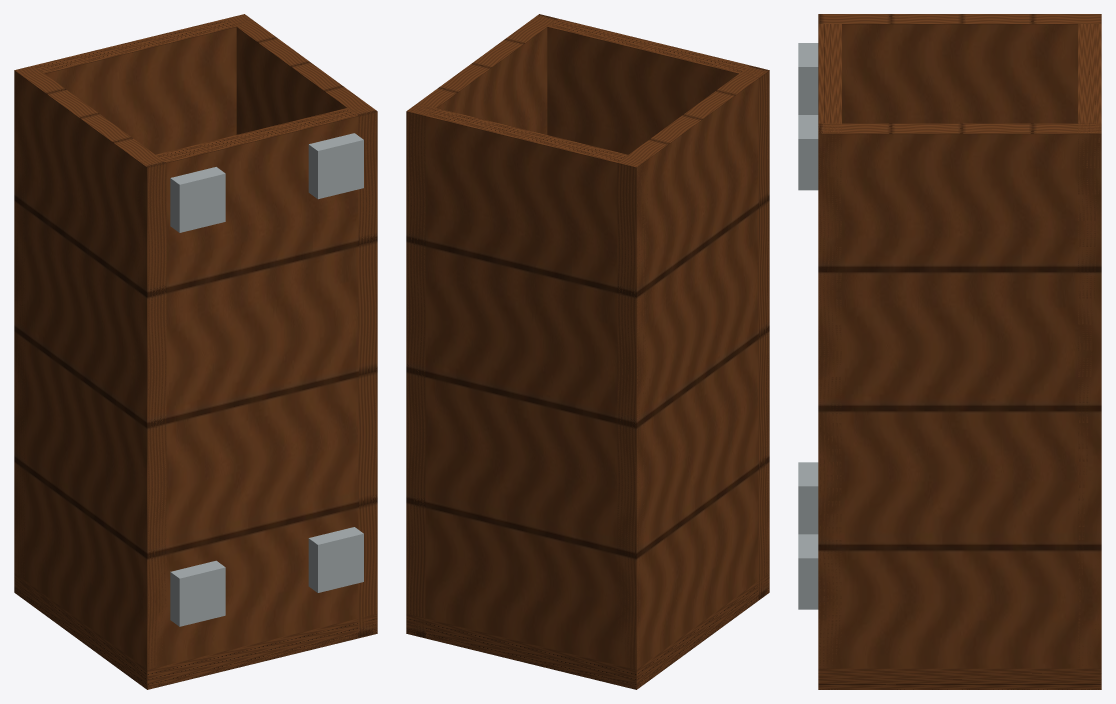
Rendered from suburban-outbreak-interiors-hall-umbrella-bin-a24b46ba__19937.glb.
The picture shows the model from 3 angles, left to right: view 1: azimuth 30°, elevation 25°; view 2: azimuth 150°, elevation 25°; view 3: azimuth 270°, elevation 25°; orthographic projection. The views are drawn at different scales.
Parts seen in each view (by area): view 1: hall-umbrella-bin; view 2: hall-umbrella-bin; view 3: hall-umbrella-bin.
Part boxes in pixels (x1,y1,x2,y2): hall-umbrella-bin: (14,14,377,689); hall-umbrella-bin: (406,14,769,689); hall-umbrella-bin: (798,14,1101,689).
Bounding box in the file's own units: 0.3 × 0.65 × 0.321.
Materials: 2 (1 with a texture image).
